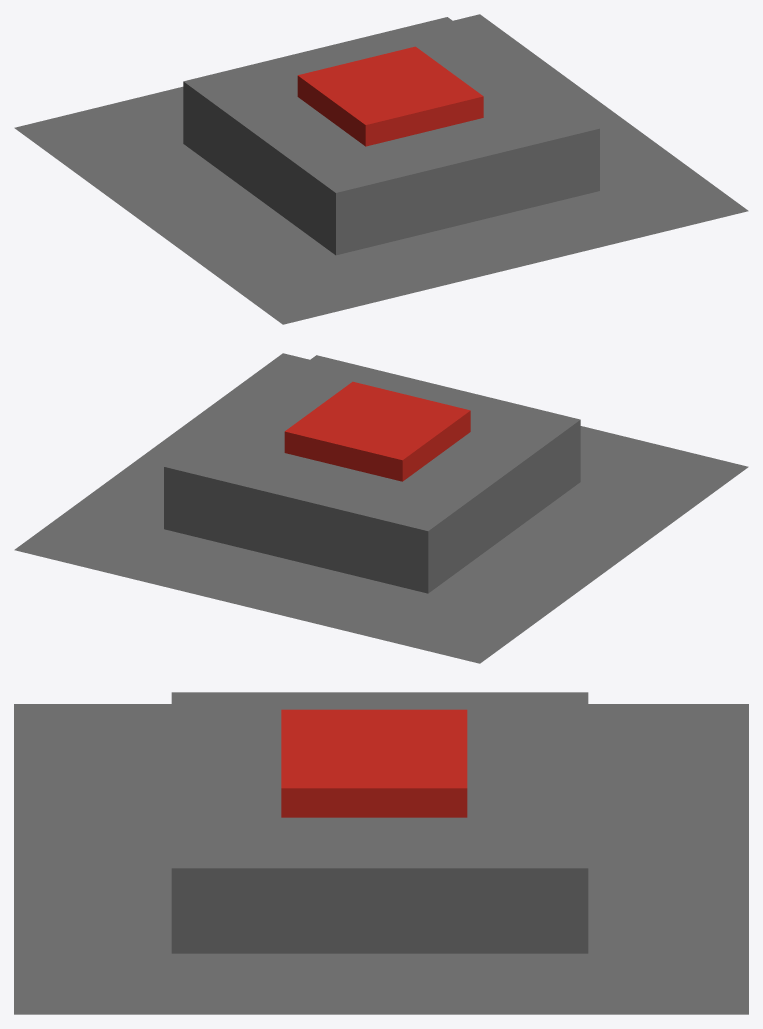
Rendered from Knopf_ungedrückt3.fbx.
3 renders of one model, top to bottom at view 1: azimuth 30°, elevation 25°; view 2: azimuth 150°, elevation 25°; view 3: azimuth 270°, elevation 25°, orthographic. The views are drawn at different scales.
Parts seen in each view (by area): view 1: Cube; view 2: Cube; view 3: Cube.
Boxes of the visible parts, x1,y1,x2,y2 form: Cube: (14, 14, 748, 324); Cube: (14, 353, 748, 663); Cube: (14, 692, 748, 1014).
Bounding box in the file's own units: 87.5 × 15.08 × 87.5.
